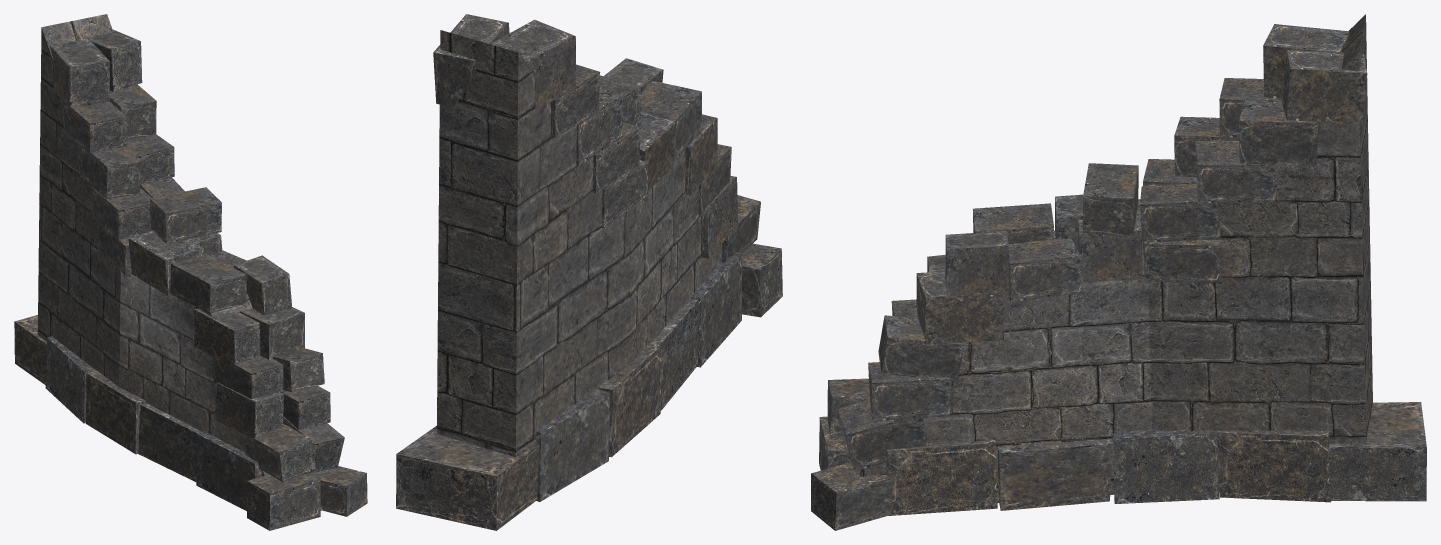
File: Wall_01.fbx
3 renders of one model, left to right at view 1: azimuth 30°, elevation 25°; view 2: azimuth 150°, elevation 25°; view 3: azimuth 270°, elevation 25°, orthographic. The views are drawn at different scales.
Visible parts, largest first — view 1: StoneBricks, StoneWall; view 2: StoneWall, StoneBricks; view 3: StoneBricks, StoneWall.
Boxes of the visible parts, x1,y1,x2,y2 form: StoneBricks: (14,29,367,530); StoneWall: (37,14,333,510); StoneWall: (437,30,721,457); StoneBricks: (396,14,782,530); StoneBricks: (811,24,1426,530); StoneWall: (859,14,1372,502).
Size of what is drawn, in the model's own units: 75.34 by 194 by 243.
